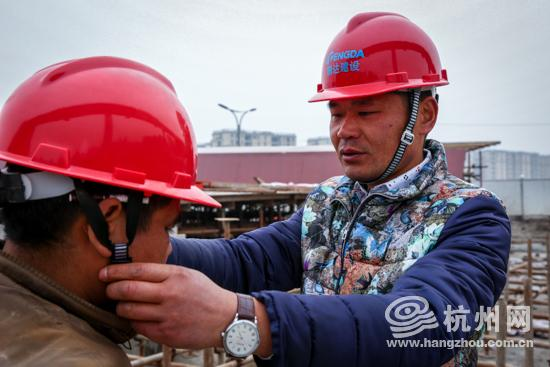helmet: (1, 57, 223, 210), (307, 11, 450, 104)
